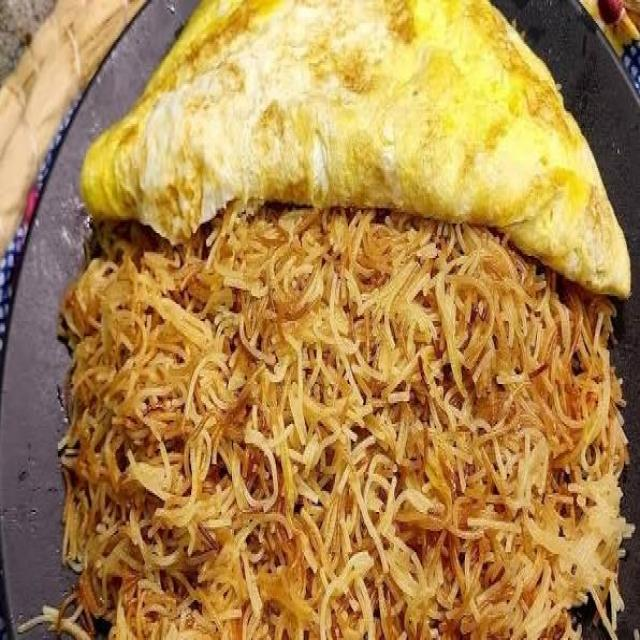Balaleet: (99, 2, 602, 640)
